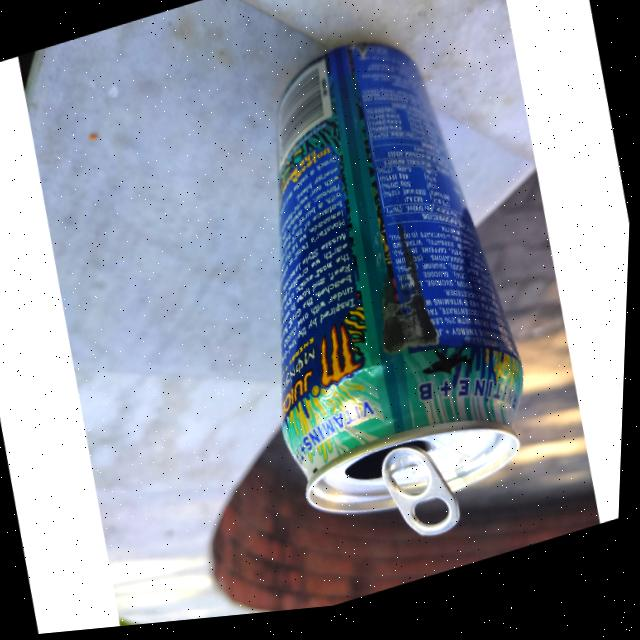Monster Aussie Lemonade: (206, 1, 564, 552)
